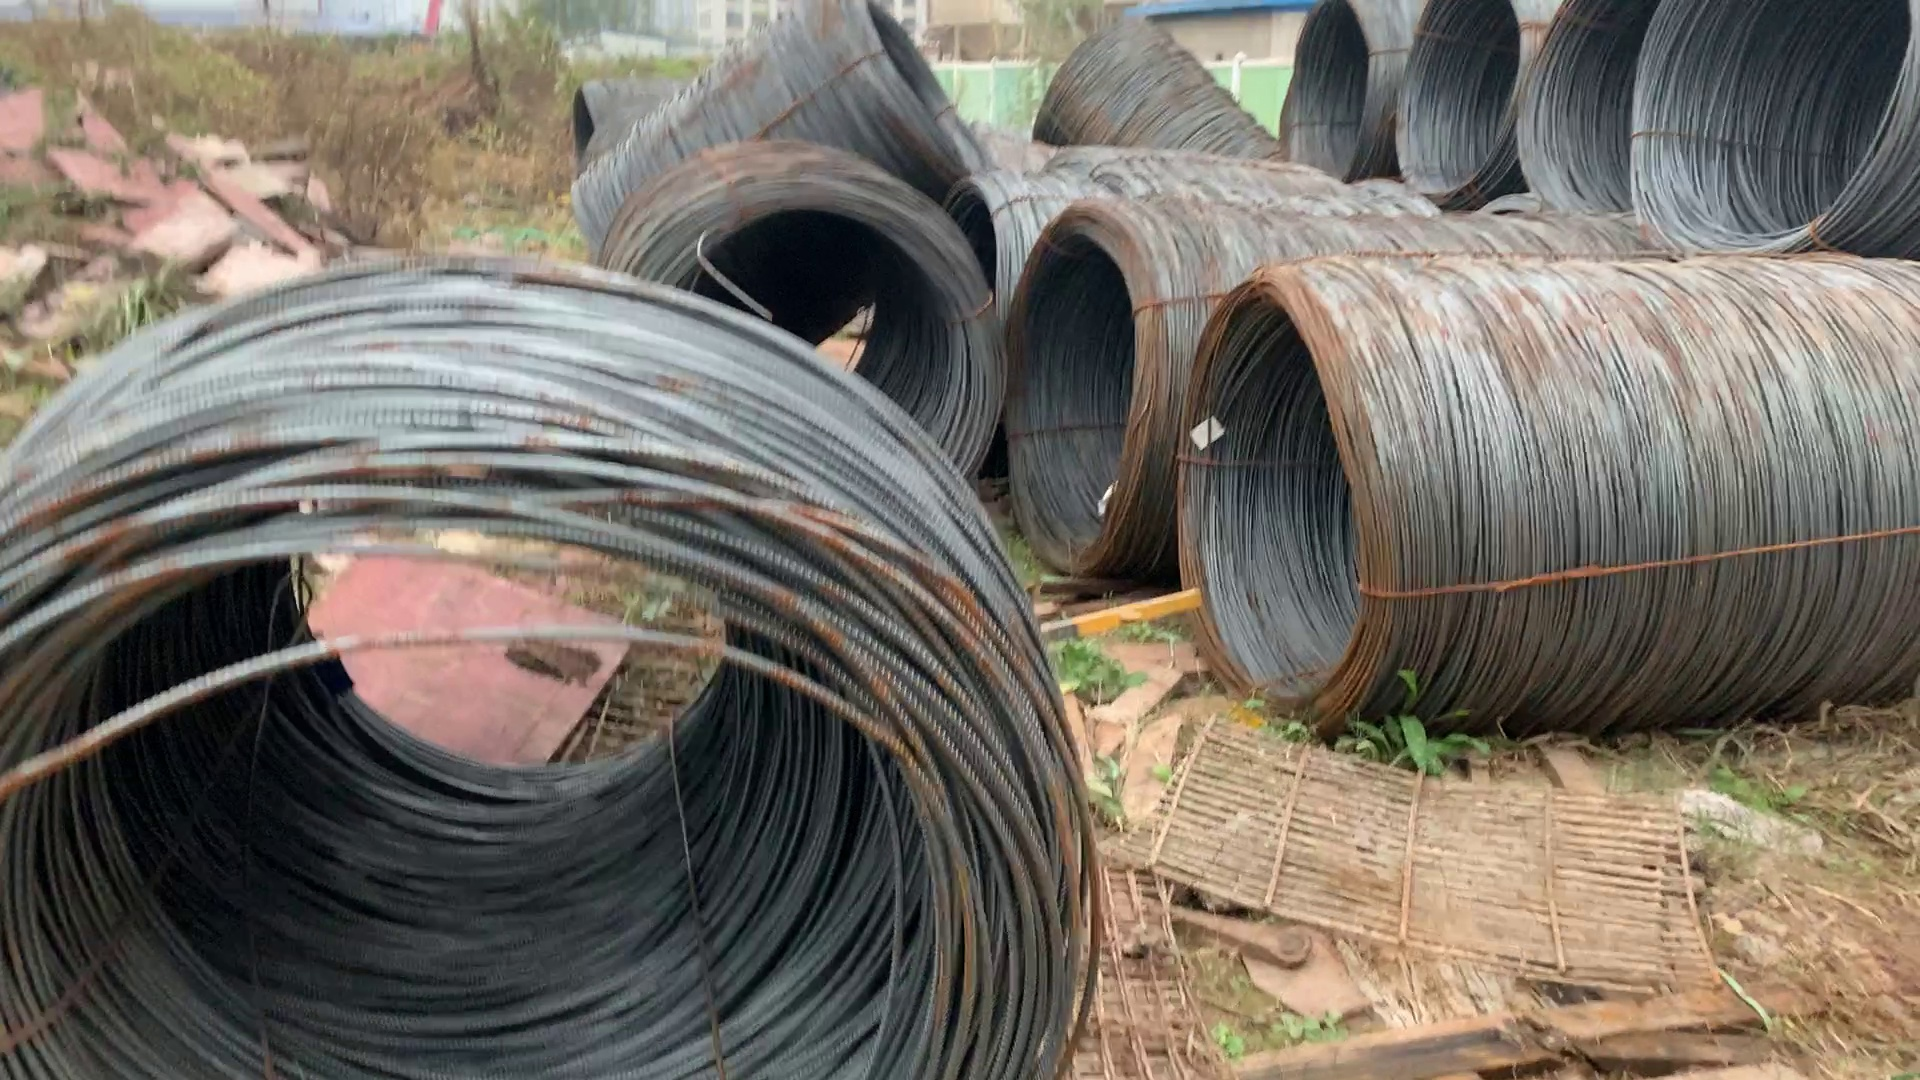coil: (1, 318, 1083, 1054), (613, 174, 1007, 483), (1164, 266, 1396, 729), (1633, 1, 1909, 274), (1013, 191, 1164, 613), (858, 1, 1015, 204), (1532, 1, 1646, 235), (1396, 1, 1527, 196), (1269, 1, 1385, 174), (554, 74, 621, 171)
